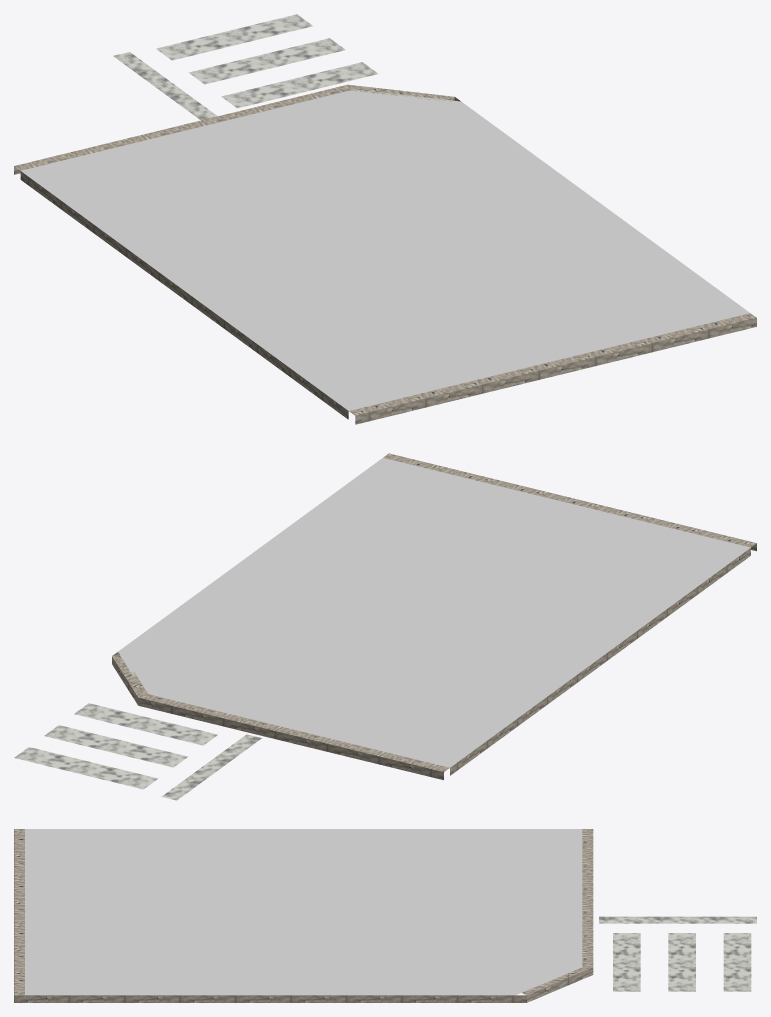
File: SM_Viale_Incrocio_Marciapiede_v2.fbx
The picture shows the model from 3 angles, top to bottom: view 1: azimuth 30°, elevation 25°; view 2: azimuth 150°, elevation 25°; view 3: azimuth 270°, elevation 25°; orthographic projection. The views are drawn at different scales.
Parts seen in each view (by area): view 1: SM_Viale_Incrocio_Marciapiede_v2; view 2: SM_Viale_Incrocio_Marciapiede_v2; view 3: SM_Viale_Incrocio_Marciapiede_v2.
Part boxes in pixels (x1,y1,x2,y2): SM_Viale_Incrocio_Marciapiede_v2: [14, 14, 756, 424]; SM_Viale_Incrocio_Marciapiede_v2: [14, 453, 756, 800]; SM_Viale_Incrocio_Marciapiede_v2: [14, 829, 756, 1002].
Size of what is drawn, in the model's own units: 710 by 1340 by 15.
Materials: 3 (2 with a texture image).
